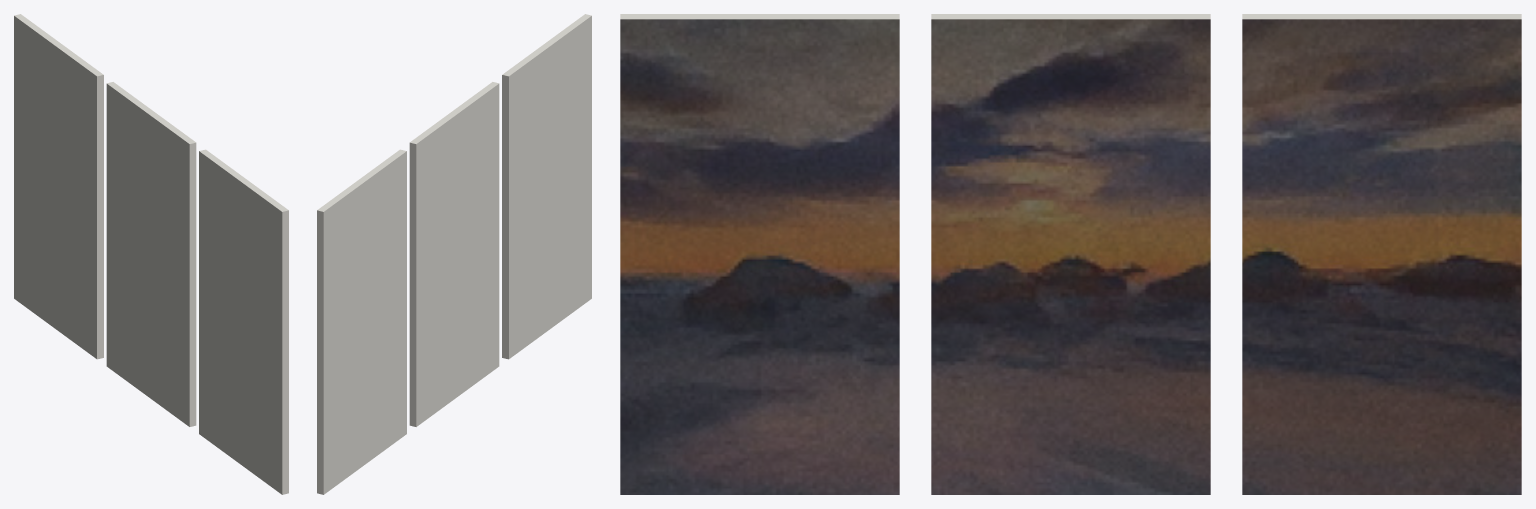
Rendered from Horizon.fbx.
The picture shows the model from 3 angles, left to right: view 1: azimuth 30°, elevation 25°; view 2: azimuth 150°, elevation 25°; view 3: azimuth 270°, elevation 25°; orthographic projection. The views are drawn at different scales.
Visible parts, largest first — view 1: Mid, Left, Right; view 2: Mid, Left, Right; view 3: Mid, Left, Right.
Boxes of the visible parts, x1=… form: Mid: x1=106, y1=82, x2=196, y2=426; Left: x1=199, y1=149, x2=288, y2=494; Right: x1=14, y1=14, x2=103, y2=359; Mid: x1=409, y1=82, x2=499, y2=426; Left: x1=502, y1=14, x2=591, y2=359; Right: x1=317, y1=149, x2=406, y2=494; Mid: x1=931, y1=14, x2=1210, y2=494; Left: x1=620, y1=14, x2=899, y2=494; Right: x1=1242, y1=14, x2=1521, y2=494.
Bounding box in the file's own units: 1.24 × 50 × 85.89.
2 materials, 1 textured.
